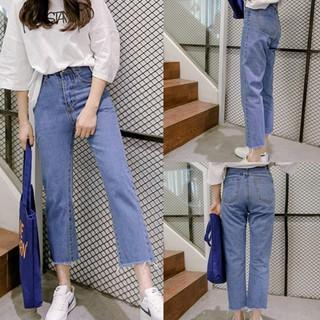pants: (33, 73, 149, 266), (219, 169, 278, 315), (241, 7, 283, 152)
sweater: (0, 0, 120, 90)
